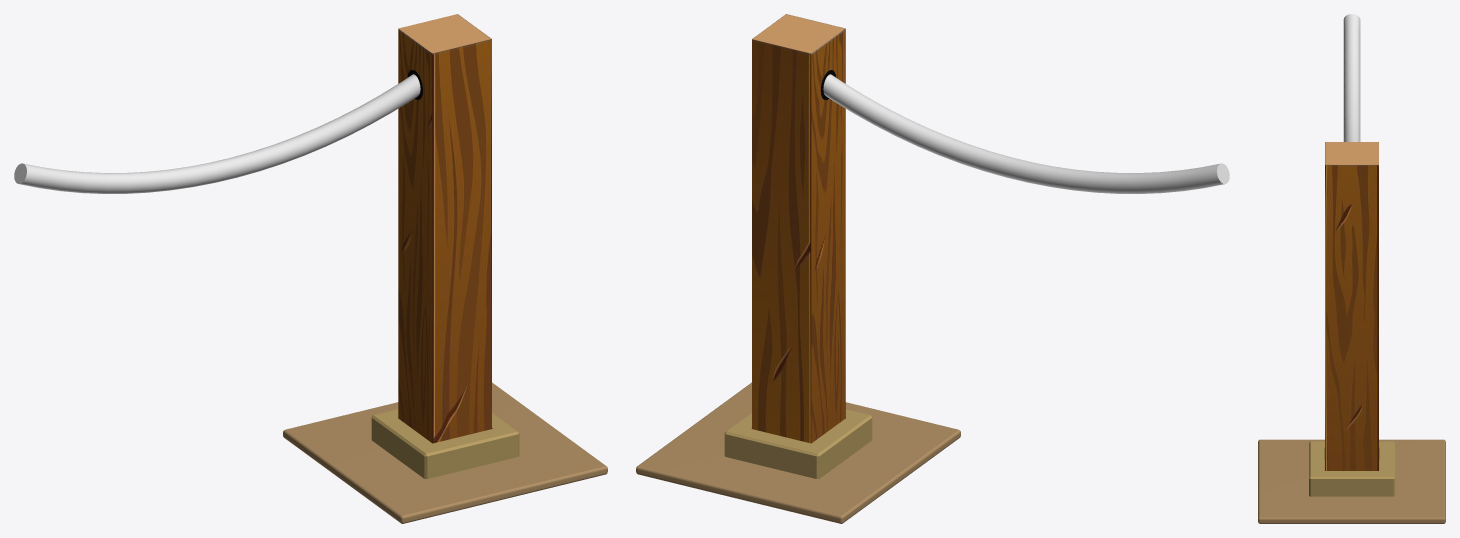
The model's file is vip_pole_open.fbx.
The picture shows the model from 3 angles, left to right: view 1: azimuth 30°, elevation 25°; view 2: azimuth 150°, elevation 25°; view 3: azimuth 270°, elevation 25°; orthographic projection. The views are drawn at different scales.
Parts seen in each view (by area): view 1: pCube3, pCube1, pCylinder3, pCube2; view 2: pCube3, pCube1, pCylinder3, pCube2; view 3: pCube3, pCube1, pCube2, pCylinder3.
Part boxes in pixels (x1,y1,x2,y2): pCube3: [398, 14, 491, 443]; pCube1: [283, 382, 607, 523]; pCylinder3: [14, 74, 420, 193]; pCube2: [371, 409, 519, 478]; pCube3: [752, 14, 845, 443]; pCube1: [636, 382, 960, 523]; pCylinder3: [823, 74, 1229, 193]; pCube2: [724, 409, 872, 478]; pCube3: [1325, 142, 1378, 470]; pCube1: [1258, 439, 1445, 523]; pCube2: [1309, 441, 1394, 496]; pCylinder3: [1343, 14, 1360, 141].
Bounding box in the file's own units: 5.6 × 4.25 × 2.18.
